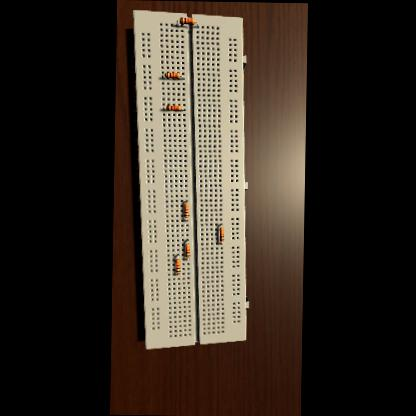breadboard: (126, 8, 253, 349)
resistor: (179, 16, 194, 23), (164, 72, 179, 78), (174, 258, 180, 272), (184, 242, 189, 257), (166, 104, 180, 109), (184, 203, 188, 217), (218, 226, 222, 240)
wire: (179, 74, 182, 79), (161, 73, 164, 77), (176, 20, 178, 26), (194, 20, 196, 26), (176, 253, 178, 258), (180, 106, 183, 109), (162, 106, 166, 108), (218, 222, 220, 226), (176, 272, 178, 274), (186, 238, 187, 242), (186, 256, 188, 258), (220, 240, 221, 242), (186, 200, 186, 202), (186, 216, 186, 219)
